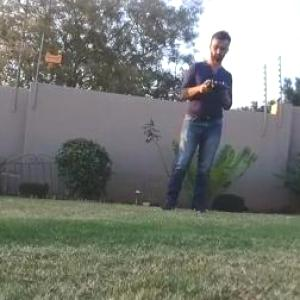follow: (152, 19, 237, 218)
